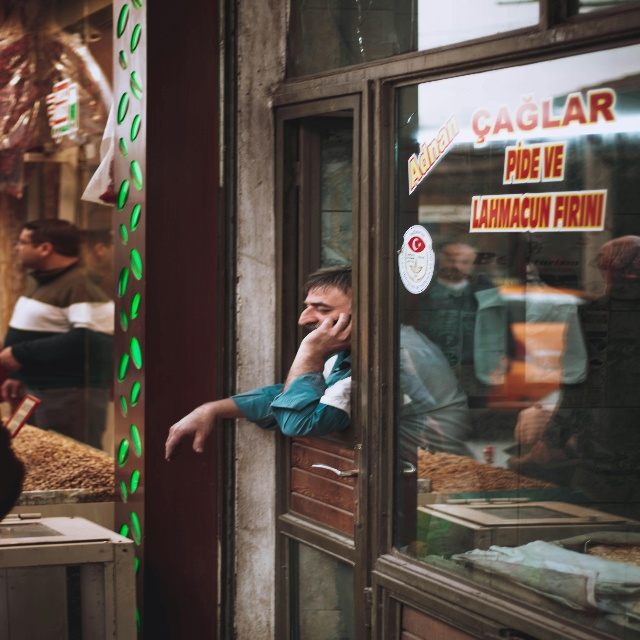Gafas: (15, 236, 42, 246)
Sin_guantes: (165, 403, 215, 465), (0, 346, 19, 373), (1, 378, 19, 400)
